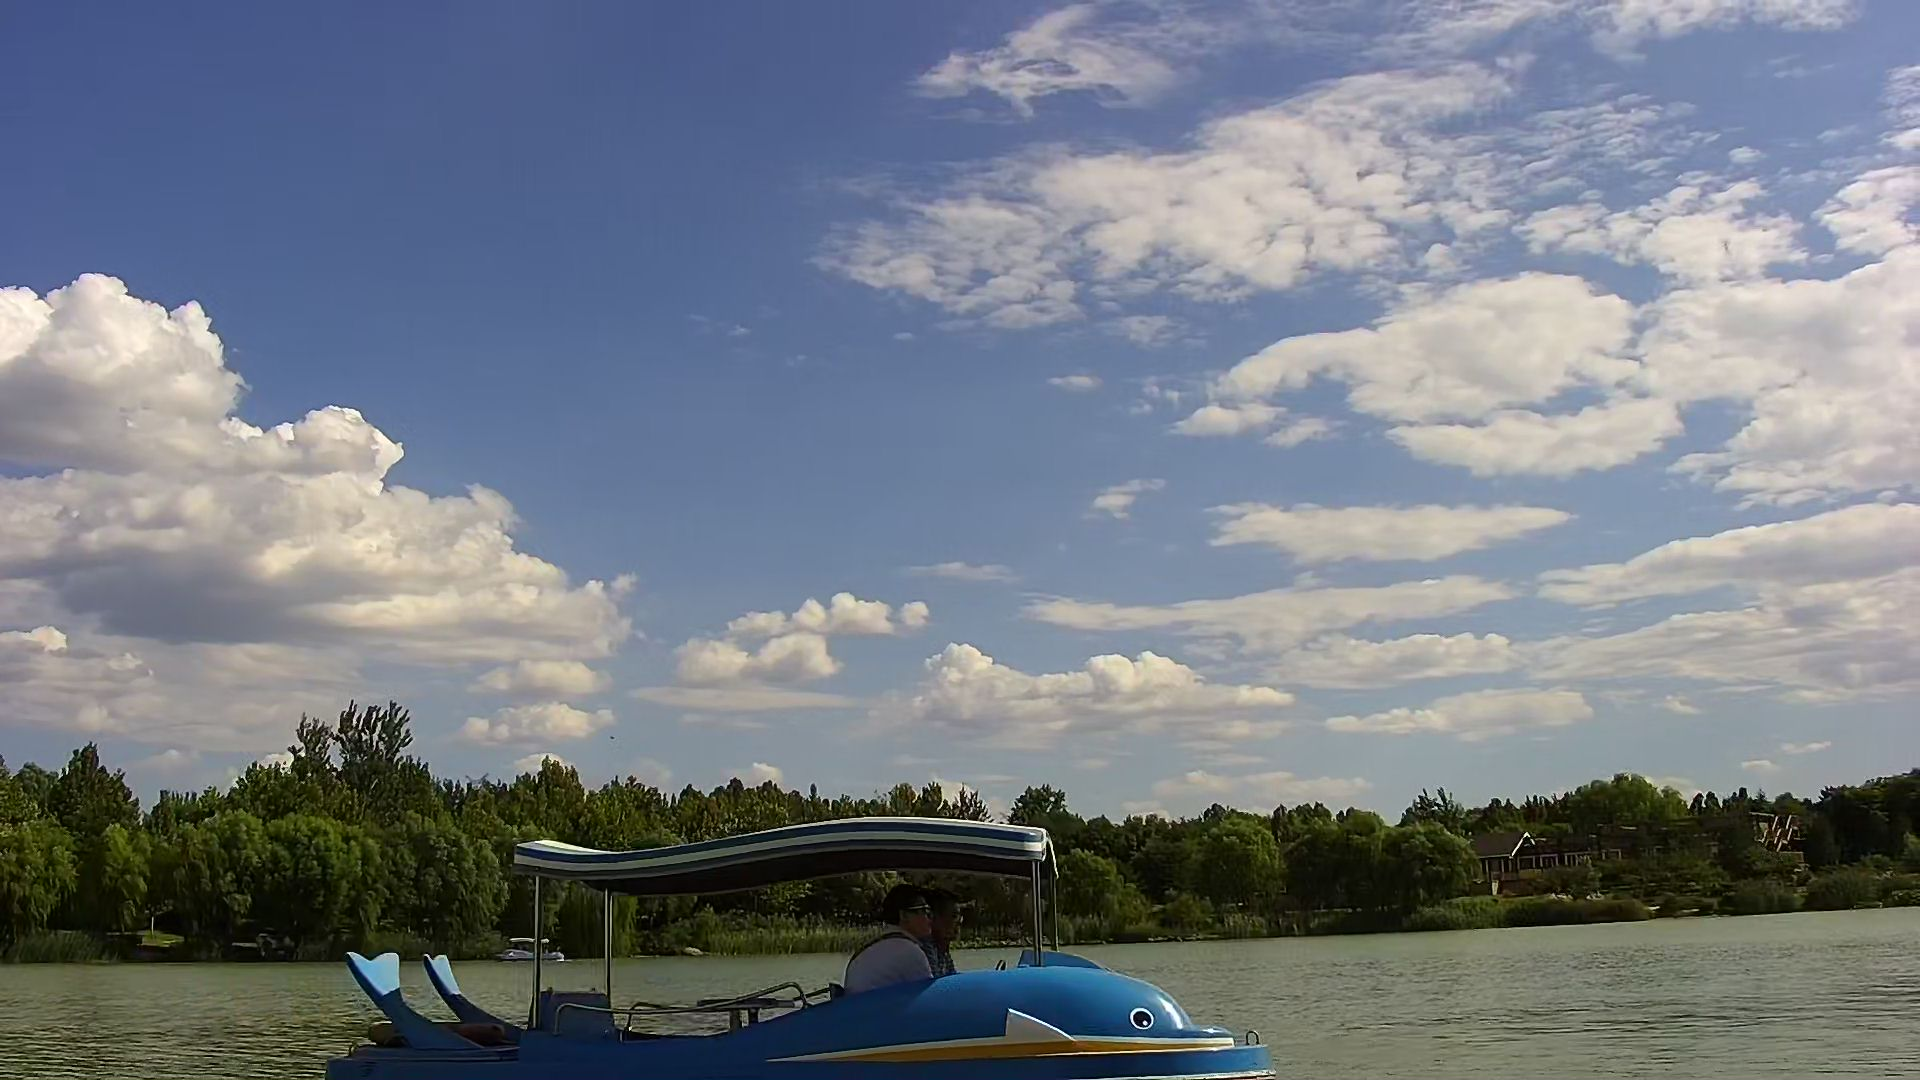boat: (338, 804, 1242, 1080)
person: (844, 880, 939, 992), (923, 880, 972, 979)
